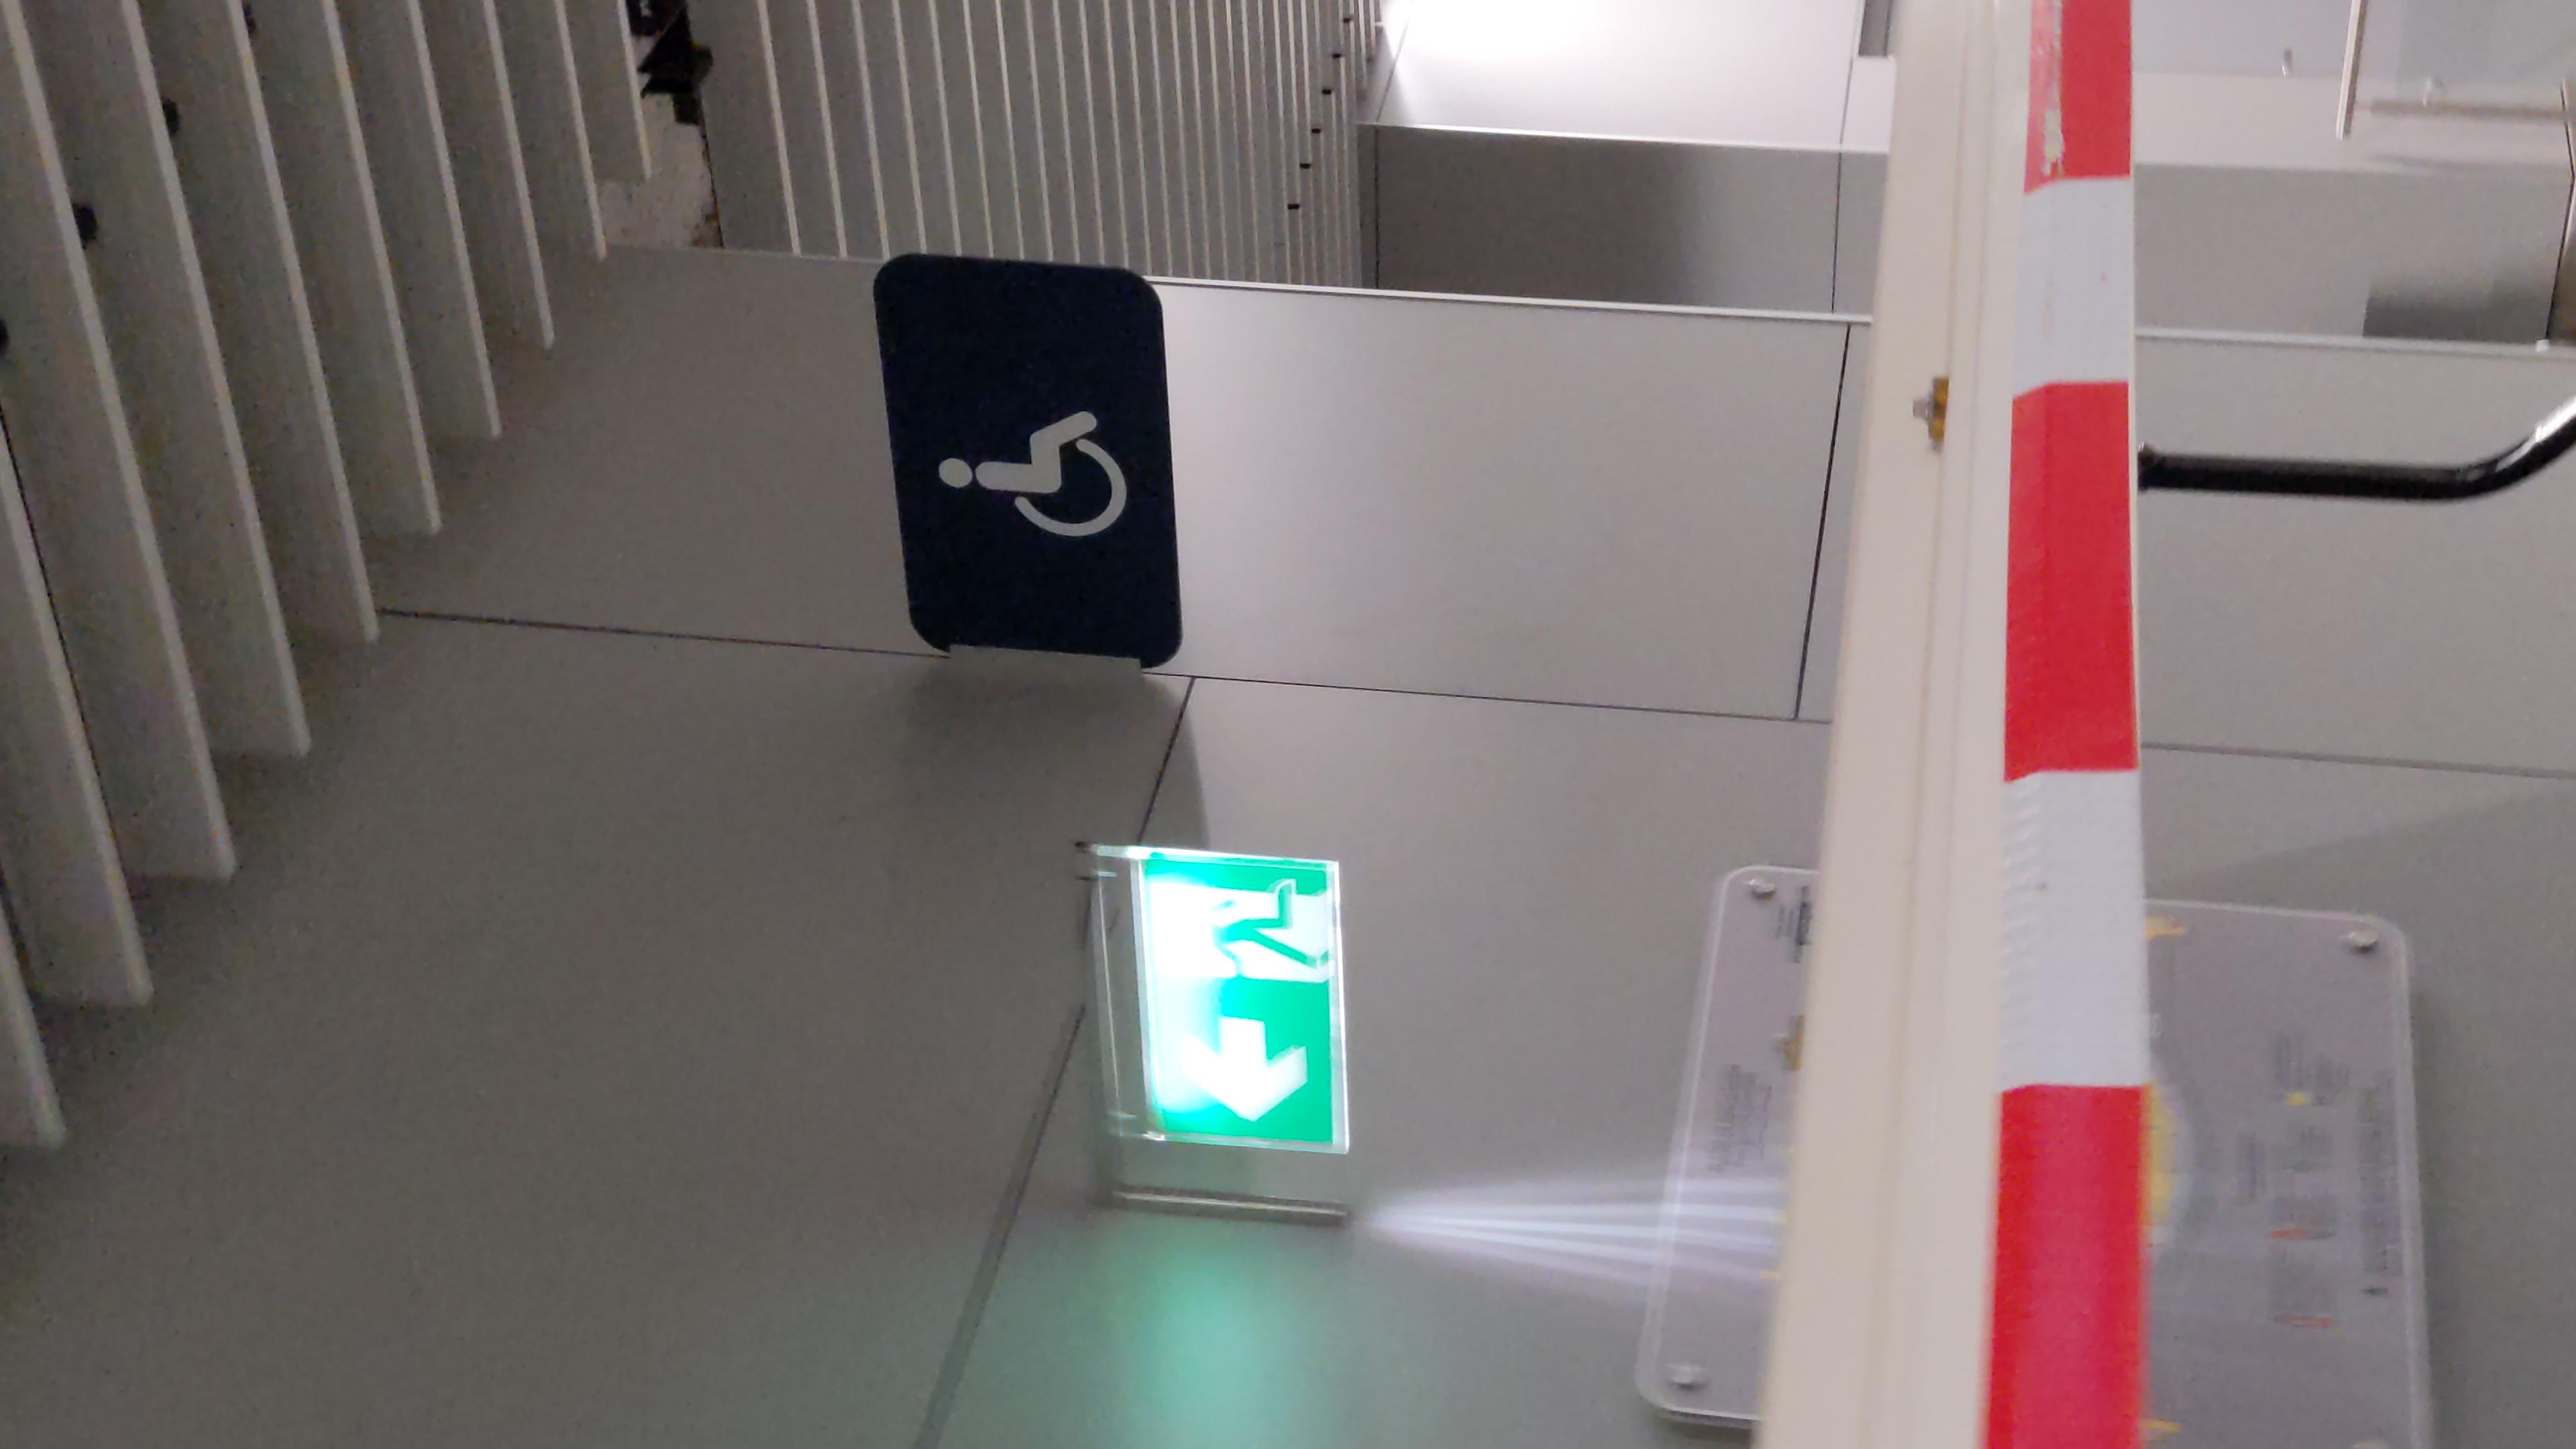emergency exit: (819, 644, 1023, 750)
emergency left arrow: (577, 658, 775, 738)
handicapped symbol: (1614, 525, 1854, 637)
